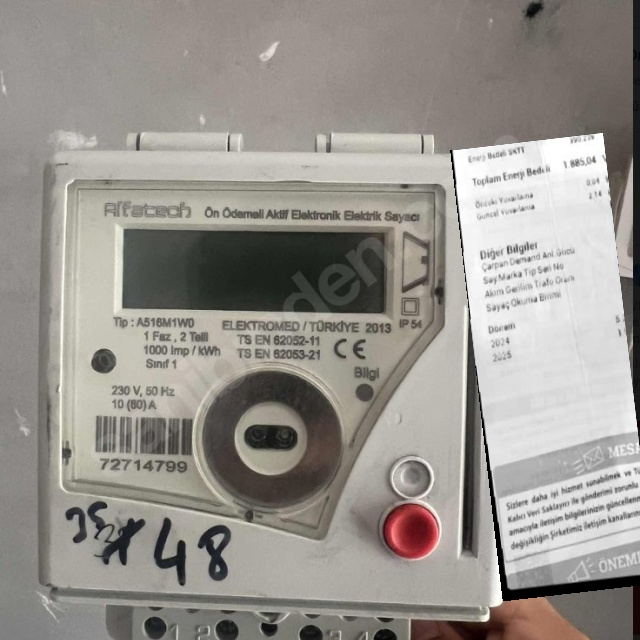electricity-bill: (449, 132, 639, 600)
